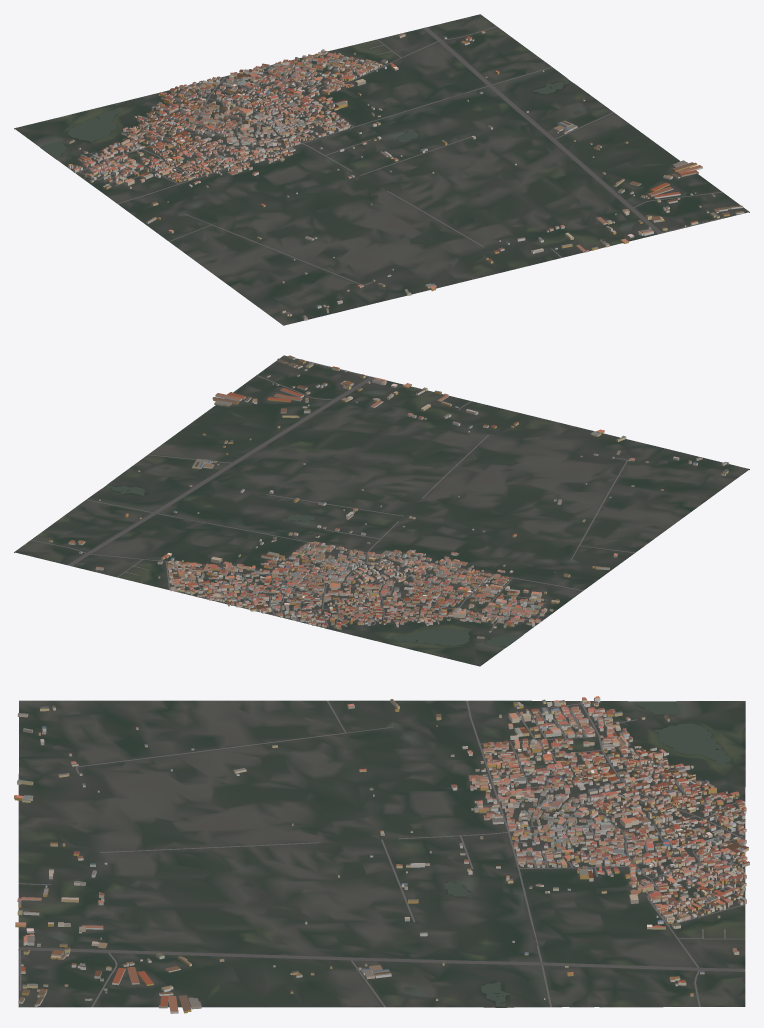
The picture shows the model from 3 angles, top to bottom: view 1: azimuth 30°, elevation 25°; view 2: azimuth 150°, elevation 25°; view 3: azimuth 270°, elevation 25°; orthographic projection. The views are drawn at different scales.
Parts seen in each view (by area): view 1: ground, buildings, roads, water; view 2: ground, buildings, roads, water; view 3: ground, buildings, roads, water.
Boxes of the visible parts, box(x1,y1,x2,y2) form: ground: box(14, 14, 749, 325); buildings: box(68, 31, 744, 320); roads: box(75, 26, 723, 285); water: box(41, 80, 569, 158); ground: box(14, 355, 749, 666); buildings: box(49, 355, 729, 638); roads: box(31, 362, 634, 629); water: box(105, 485, 520, 646); ground: box(18, 700, 745, 1007); buildings: box(14, 696, 749, 1013); roads: box(18, 700, 745, 1007); water: box(444, 701, 730, 1006).
Size of the model in its own units: 1428 by 15.88 by 1420.
